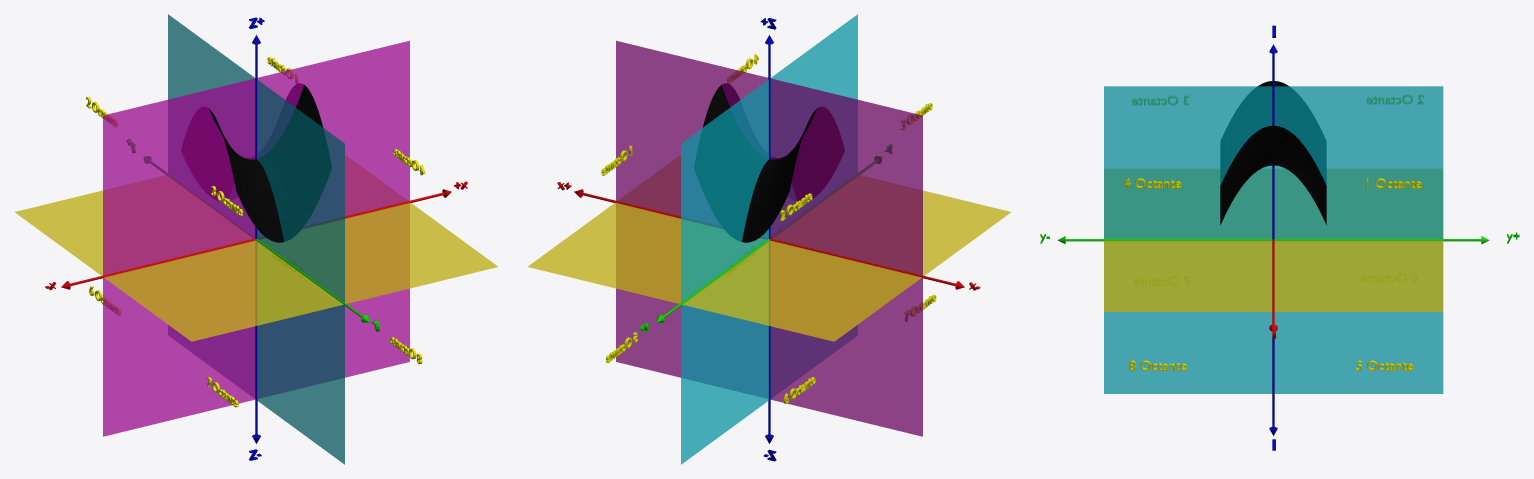
Rendered from octantes_ver2.fbx.
3 renders of one model, left to right at view 1: azimuth 30°, elevation 25°; view 2: azimuth 150°, elevation 25°; view 3: azimuth 270°, elevation 25°, orthographic. The views are drawn at different scales.
Parts seen in each view (by area): view 1: PlanoXZ, PlanoXY, PlanoYZ, Z Function.001, ejeX, ejeZ, ejeY; view 2: PlanoXZ, PlanoXY, PlanoYZ, Z Function.001, ejeX, ejeZ, ejeY; view 3: PlanoYZ, PlanoXY, Z Function.001, ejeY, ejeZ.
Boxes of the visible parts, x1,y1,x2,y2 form: PlanoXZ: (103, 40, 409, 436); PlanoXY: (15, 155, 497, 341); PlanoYZ: (168, 14, 344, 464); Z Function.001: (181, 83, 331, 242); ejeX: (61, 189, 451, 289); ejeZ: (252, 35, 260, 443); ejeY: (144, 156, 369, 322); PlanoXZ: (616, 40, 922, 436); PlanoXY: (528, 155, 1010, 341); PlanoYZ: (681, 14, 857, 464); Z Function.001: (694, 83, 844, 242); ejeX: (574, 189, 964, 289); ejeZ: (765, 35, 773, 443); ejeY: (656, 156, 881, 322); PlanoYZ: (1104, 86, 1443, 393); PlanoXY: (1104, 169, 1443, 311); Z Function.001: (1220, 81, 1326, 224); ejeY: (1057, 236, 1489, 244); ejeZ: (1269, 44, 1277, 435).
Size of the model in its own units: 1097 by 1097 by 1131.
